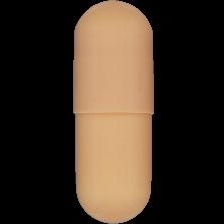0615-1308: (0, 0, 224, 224)
